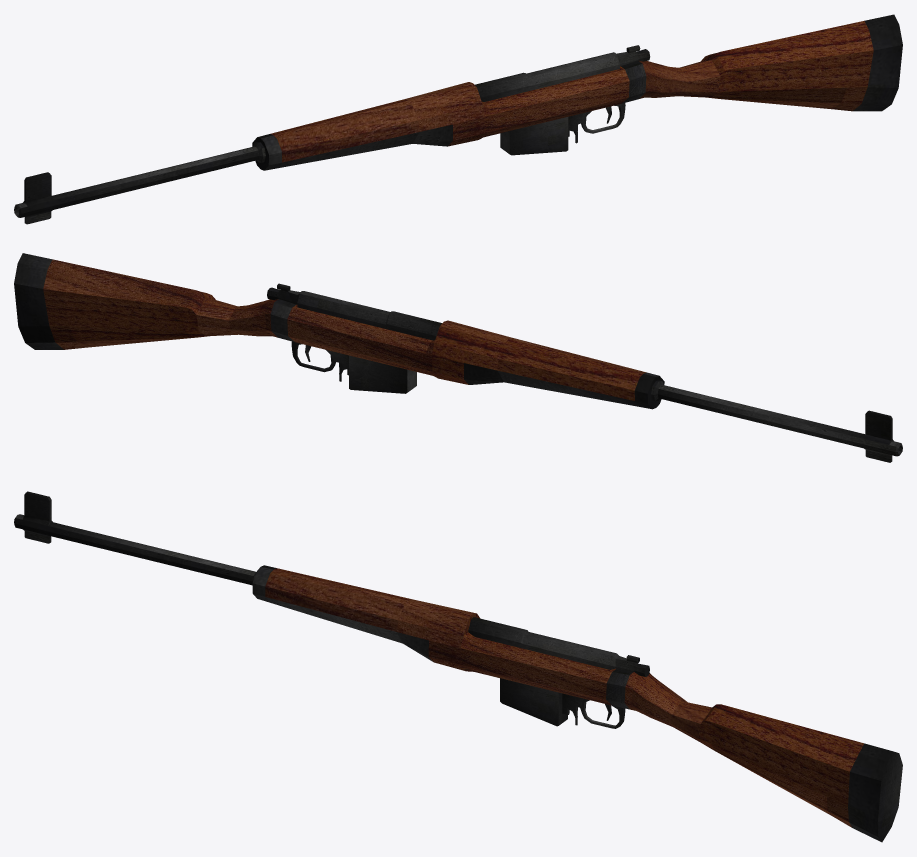
Rendered from Wep_DartGun.fbx.
3 views of the same model, one above another, from view 1: azimuth 30°, elevation 25°; view 2: azimuth 150°, elevation 25°; view 3: azimuth 330°, elevation 25° (orthographic).
Visible parts, largest first — view 1: Rifle; view 2: Rifle; view 3: Rifle.
Boxes of the visible parts, <box> form: Rifle: <box>14,14,902,224</box>; Rifle: <box>14,253,902,462</box>; Rifle: <box>14,491,902,842</box>.
Size of the model in its own units: 725 by 112 by 34.69.
